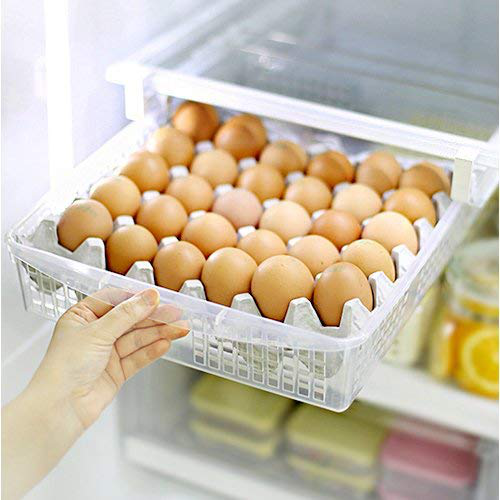egg: (68, 100, 453, 358)
